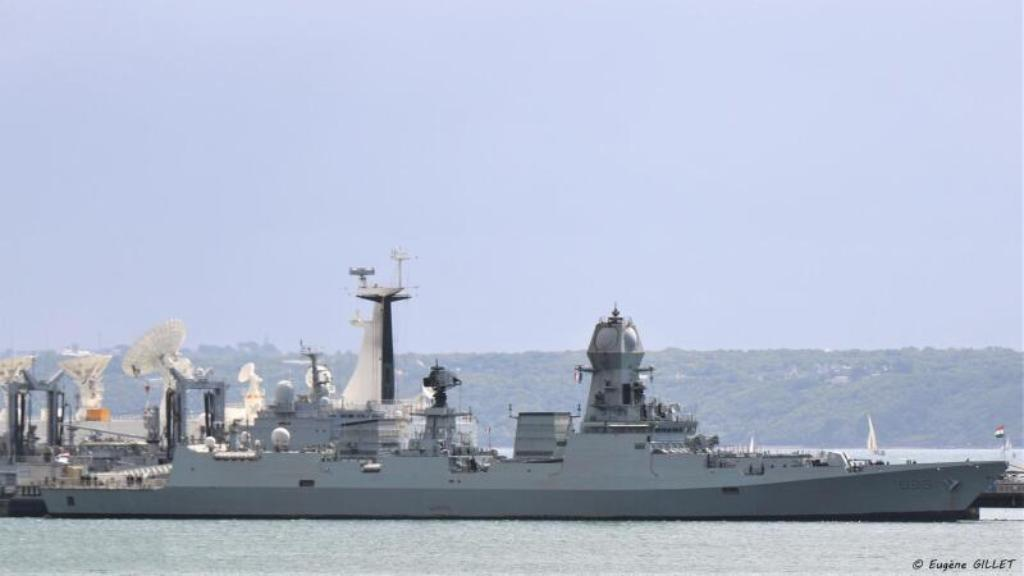Warship: (40, 296, 1016, 520)
